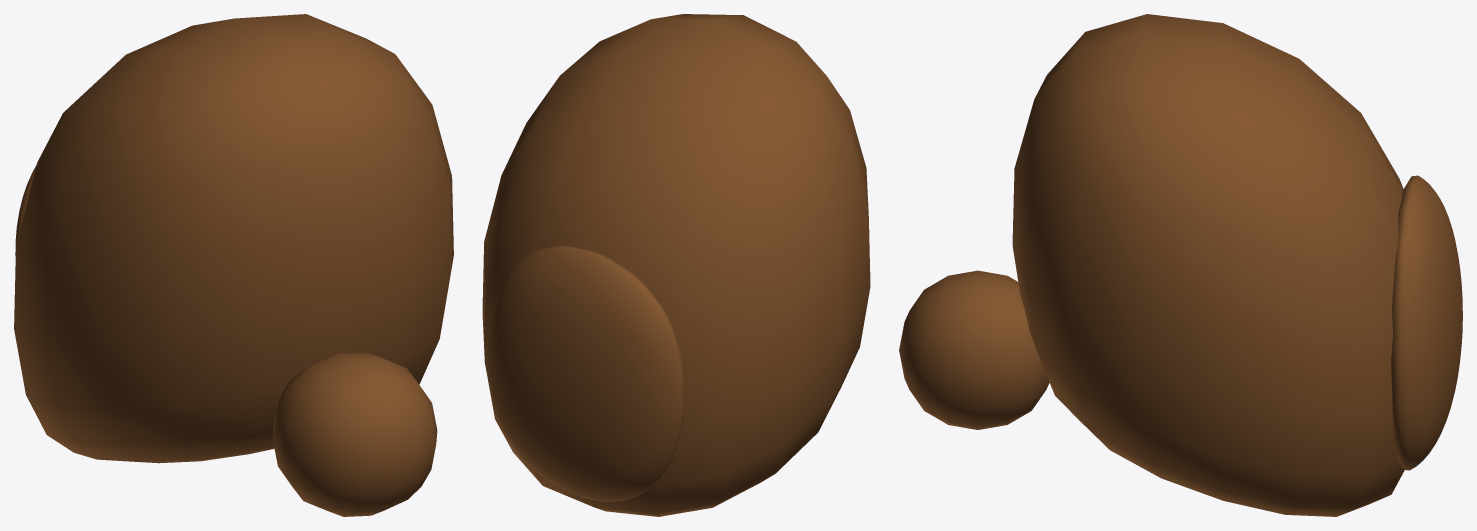
Rendered from DEFTorsoBear.fbx.
The picture shows the model from 3 angles, left to right: view 1: azimuth 30°, elevation 25°; view 2: azimuth 150°, elevation 25°; view 3: azimuth 270°, elevation 25°; orthographic projection. The views are drawn at different scales.
Visible parts, largest first — view 1: Torso; view 2: Torso, Belly; view 3: Torso, Belly.
Boxes of the visible parts, x1,y1,x2,y2 form: Torso: [14, 14, 453, 516]; Torso: [482, 14, 870, 516]; Belly: [486, 245, 684, 501]; Torso: [899, 14, 1404, 516]; Belly: [1391, 175, 1462, 470].
Bounding box in the file's own units: 105 × 123 × 140.
